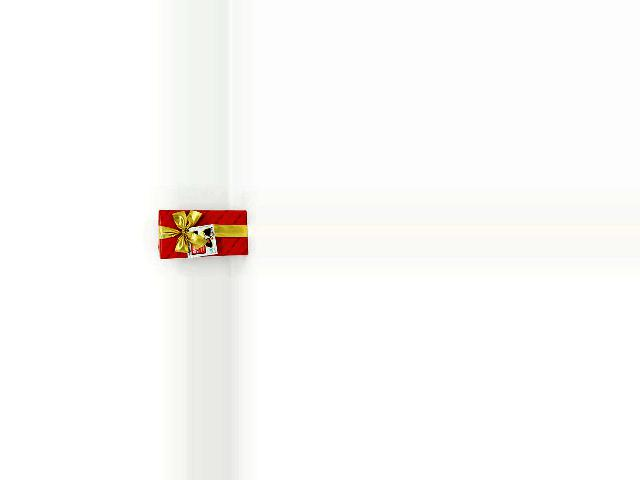chocolate: (155, 205, 246, 258)
